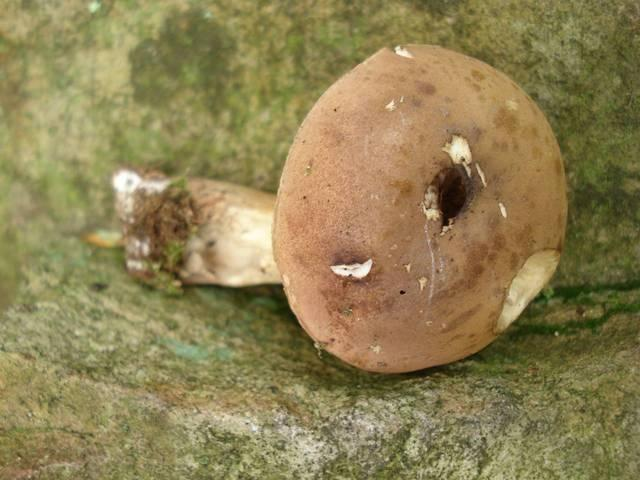poisonous_mushroom: (101, 41, 569, 375)
